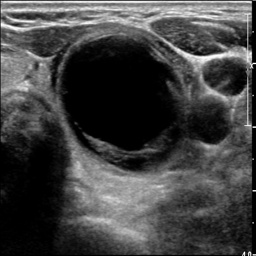mass: (59, 33, 188, 168)
